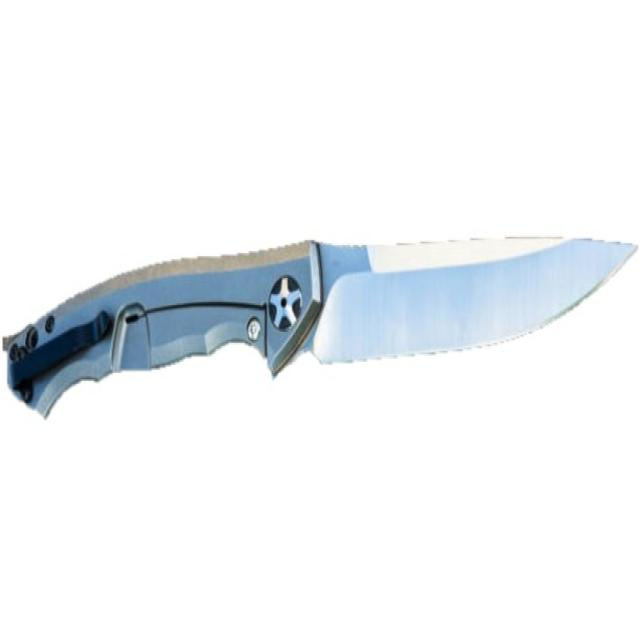knife: (1, 224, 640, 428)
